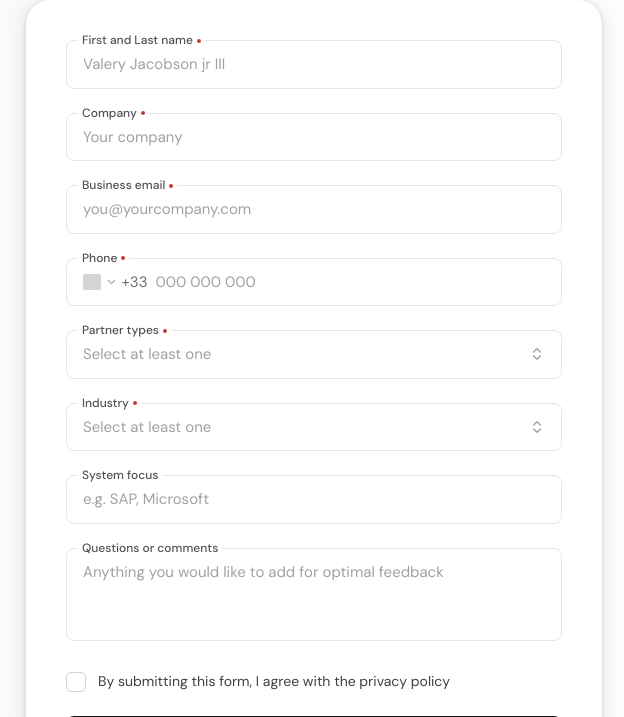
PartnerForm › does not submit when only some required fields are filled
Type "Ada" into the field labelled "First and Last name" at (314, 64), box [66,40,562,88]
(page scrolled)
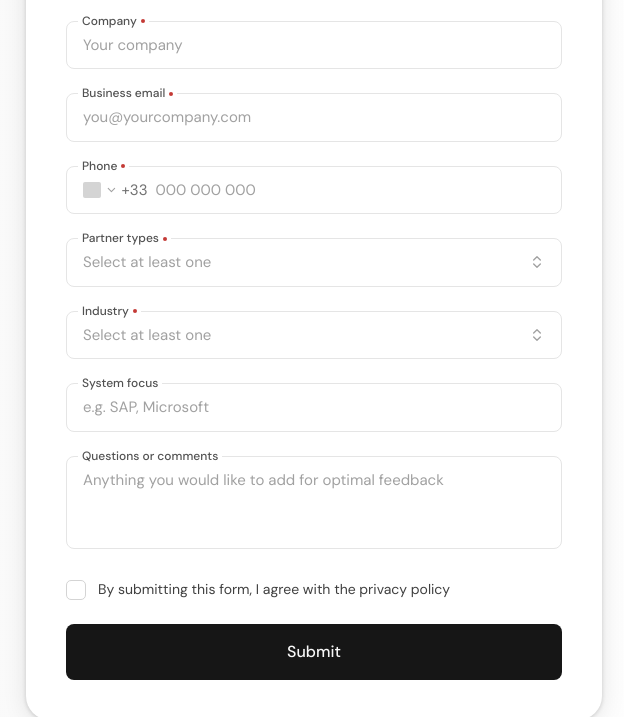
Click the button "Submit" at (314, 652), box [66,624,562,680]
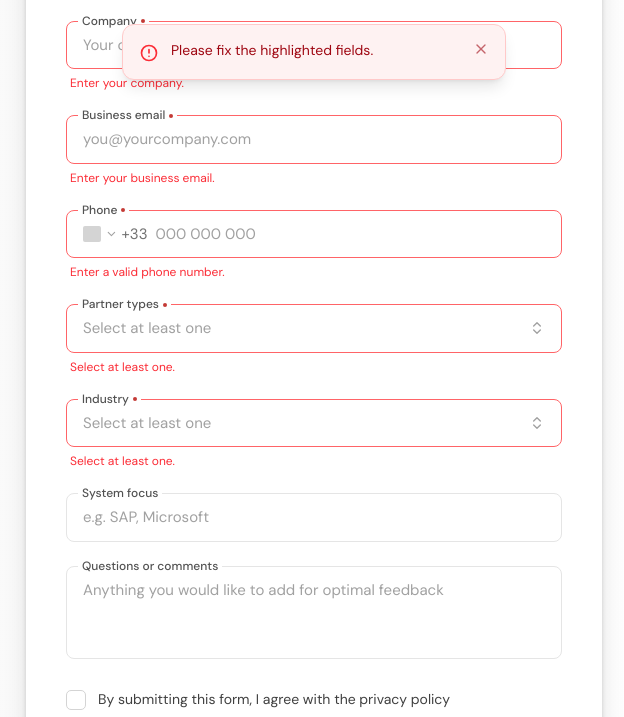
Result: the message "Please fix the highlighted fields." is shown at [122,24,506,80]
